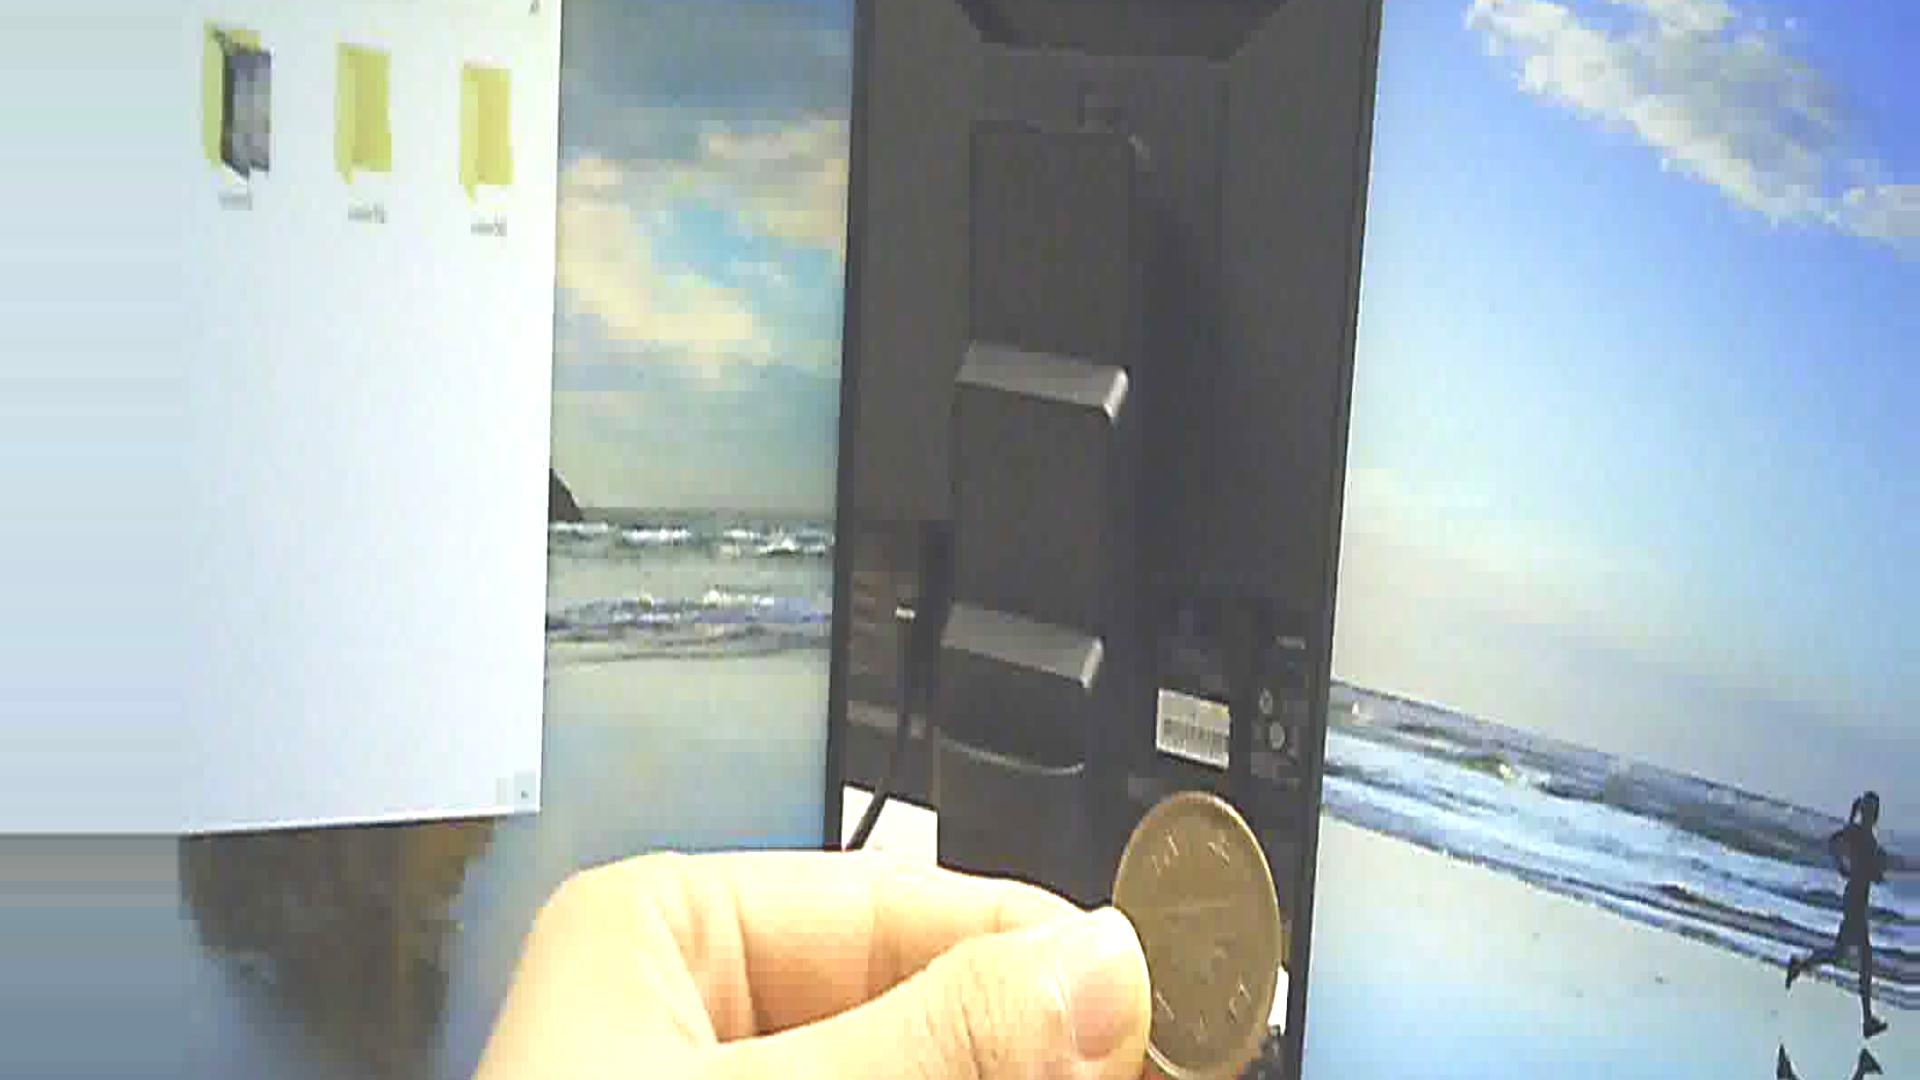10 Yen: (1091, 794, 1311, 1079)
